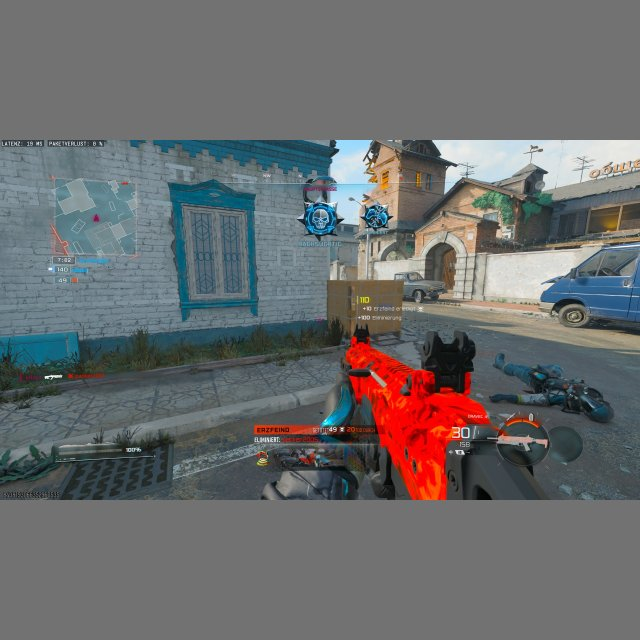head: (583, 392, 614, 424)
